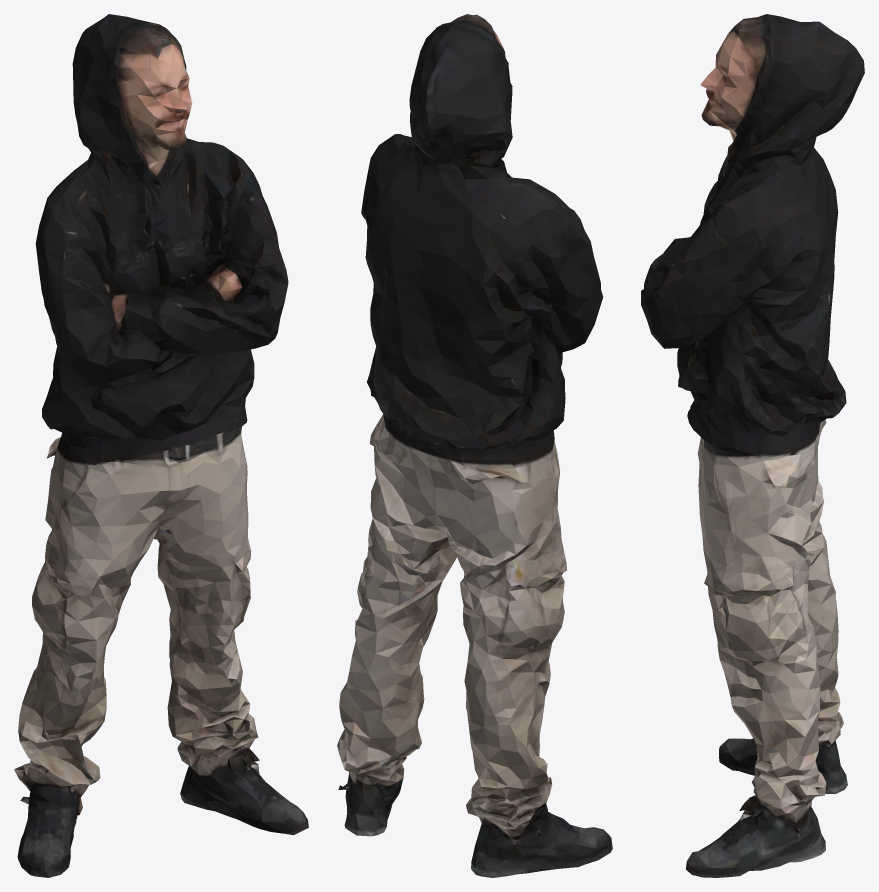
The picture shows the model from 3 angles, left to right: view 1: azimuth 30°, elevation 25°; view 2: azimuth 150°, elevation 25°; view 3: azimuth 270°, elevation 25°; orthographic projection. The views are drawn at different scales.
Visible parts, largest first — view 1: m.obj; view 2: m.obj; view 3: m.obj.
Part boxes in pixels (x1,y1,x2,y2): m.obj: [14, 14, 308, 877]; m.obj: [337, 14, 612, 877]; m.obj: [641, 14, 864, 877].
Bounding box in the file's own units: 0.5885 × 1.73 × 0.441.
Materials: 1 (1 with a texture image).
